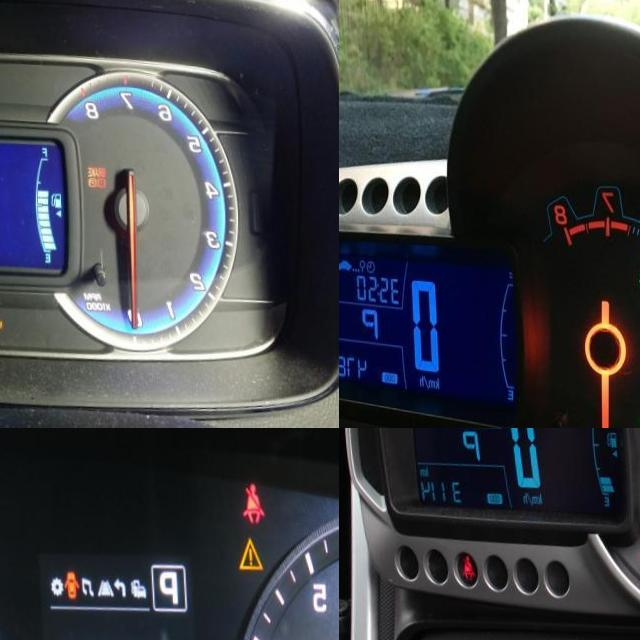Central Warning lamp: (238, 527, 264, 565)
Doors: (64, 563, 81, 594)
